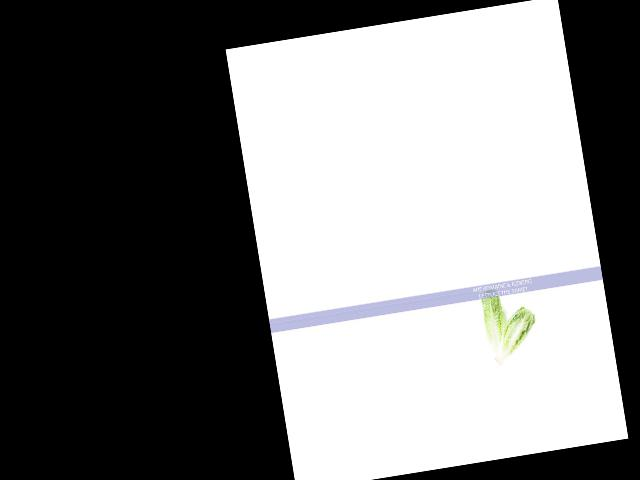lettuce: (487, 302, 540, 372)
